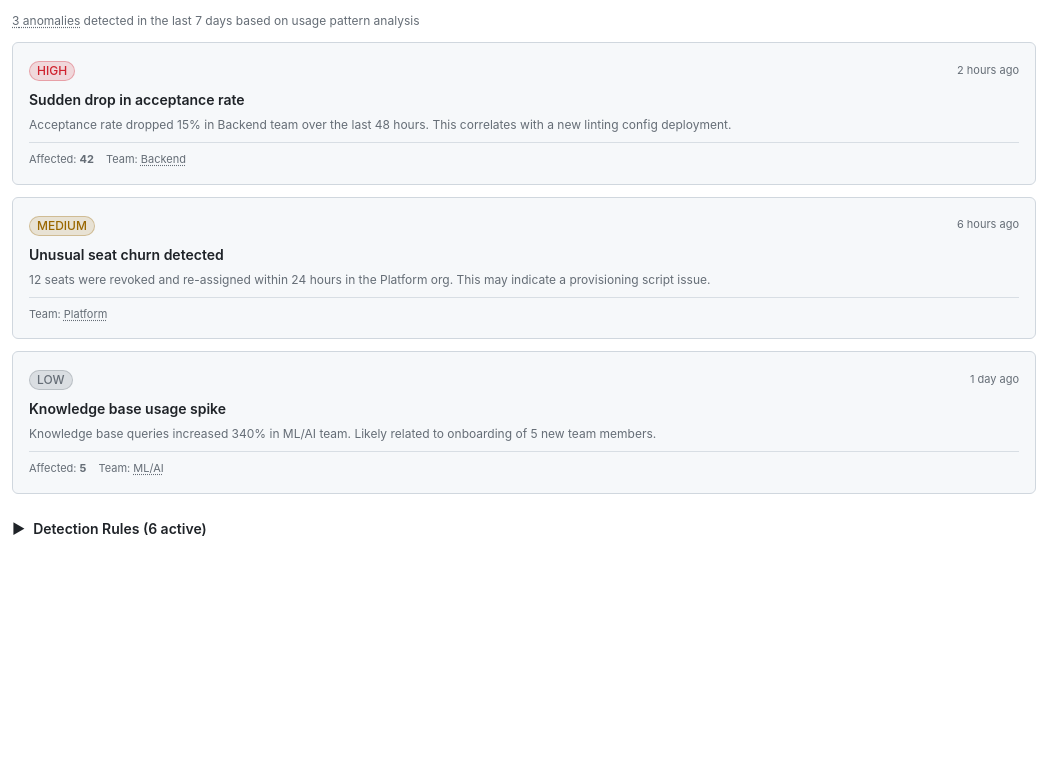
it: AnomaliesPane detection rules › shows Create Custom Rule button when rules are expanded
The image size is (1048, 780).
Click the button "▶ Detection Rules (6 active)". click: (109, 528)
box: [12,518,207,538]
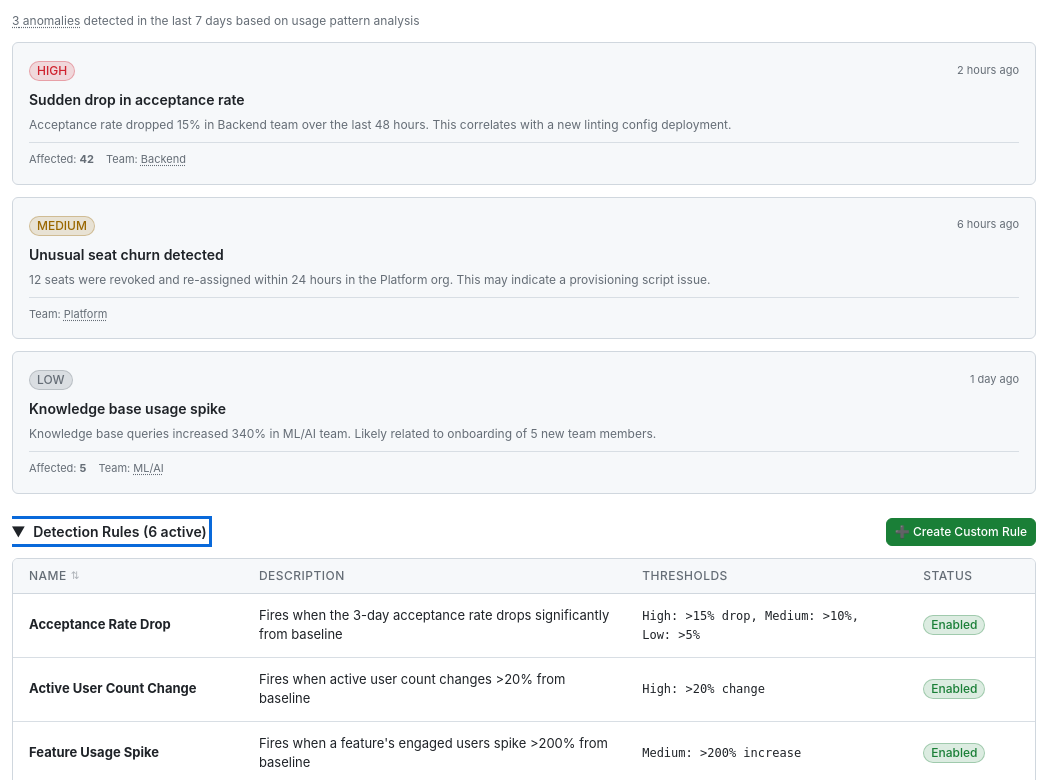
Expected: the button "➕ Create Custom Rule" is shown, [886,518,1036,546]
